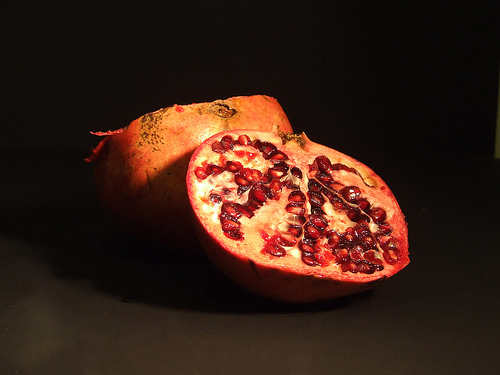pomogranate: (184, 128, 411, 307), (82, 93, 295, 203)
